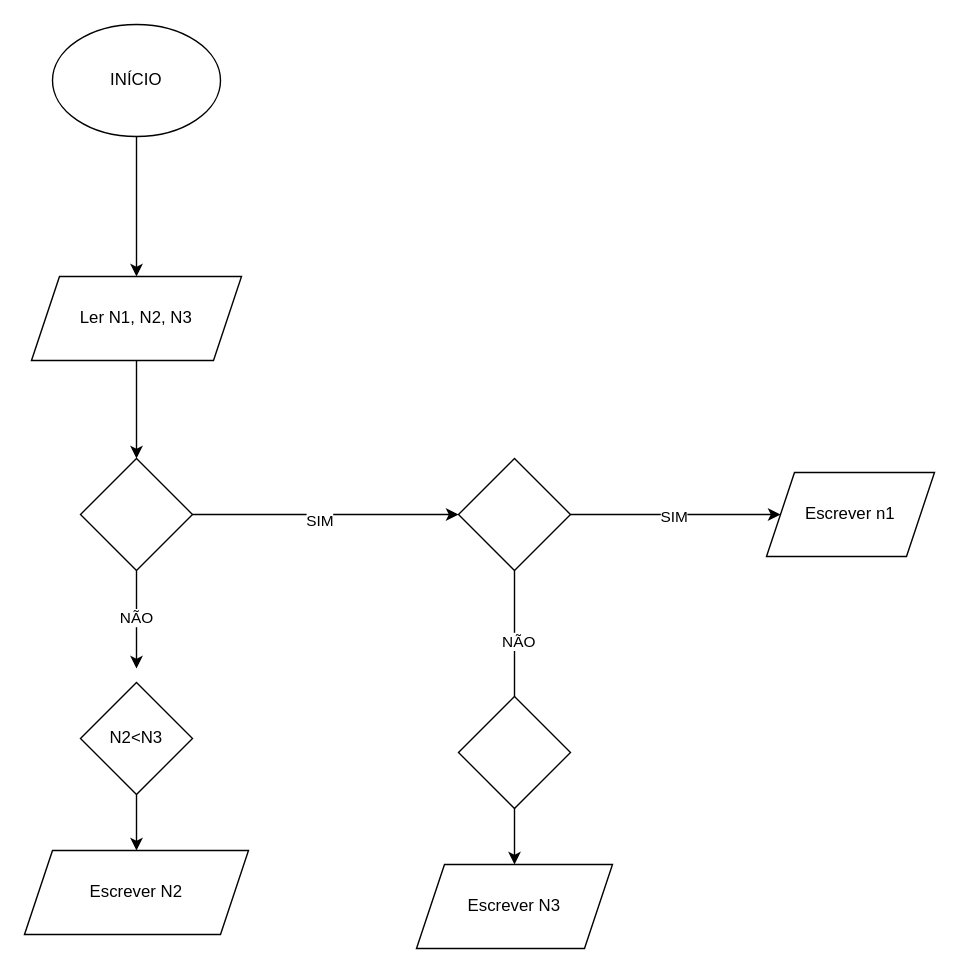
The diagram is 959 pixels wide and 973 high, and some of its shapes have lost their labels. The shapes that lost their labels are listed below. From the top down, each one's box as (x1, y1, x2, y2) in pixels, then its label:
(79, 457, 192, 570): N1>N2
(457, 457, 570, 570): N1<N3
(457, 695, 570, 808): N3>N2
